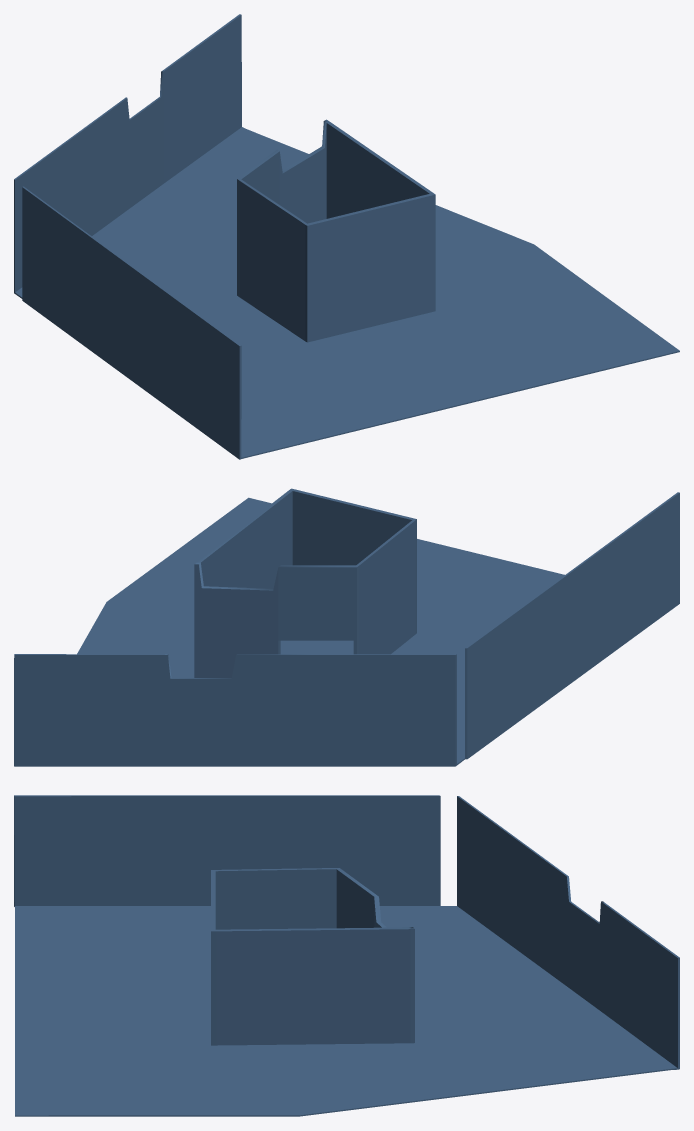
File: parkerlevel.fbx
3 views of the same model, one above another, from view 1: azimuth 30°, elevation 25°; view 2: azimuth 150°, elevation 25°; view 3: azimuth 270°, elevation 25° (orthographic). The views are drawn at different scales.
Parts seen in each view (by area): view 1: pDisc1; view 2: pDisc1; view 3: pDisc1.
Boxes of the visible parts, box(x1,y1,x2,y2) form: pDisc1: box(14, 14, 679, 459); pDisc1: box(14, 488, 679, 766); pDisc1: box(14, 795, 679, 1116).
Size of the model in its own units: 127 by 33.01 by 170.
